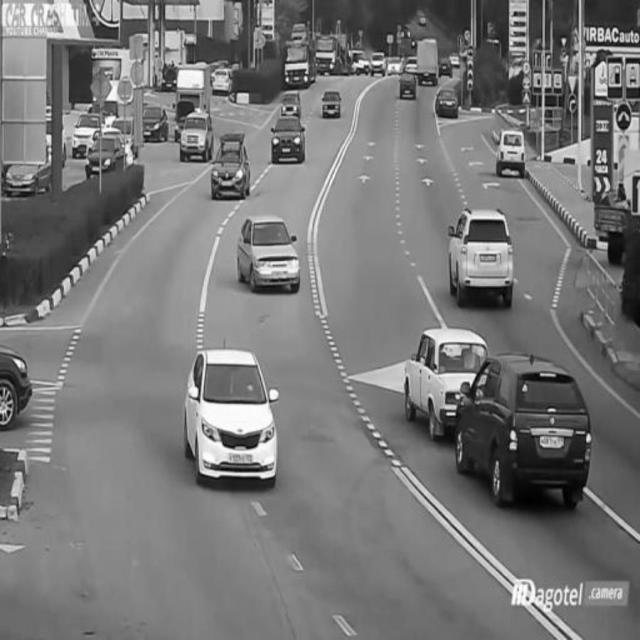vehicle: (460, 355, 591, 509), (182, 353, 280, 485), (407, 329, 483, 437), (450, 212, 517, 300), (235, 217, 305, 290), (1, 344, 36, 425), (212, 136, 253, 200), (267, 114, 309, 170), (175, 103, 213, 164), (279, 28, 315, 84), (85, 129, 123, 174), (495, 126, 529, 172), (139, 98, 171, 145), (414, 31, 440, 85), (313, 34, 345, 76), (432, 83, 462, 120), (275, 87, 311, 117), (318, 86, 344, 121), (396, 70, 420, 105), (367, 48, 387, 80)
